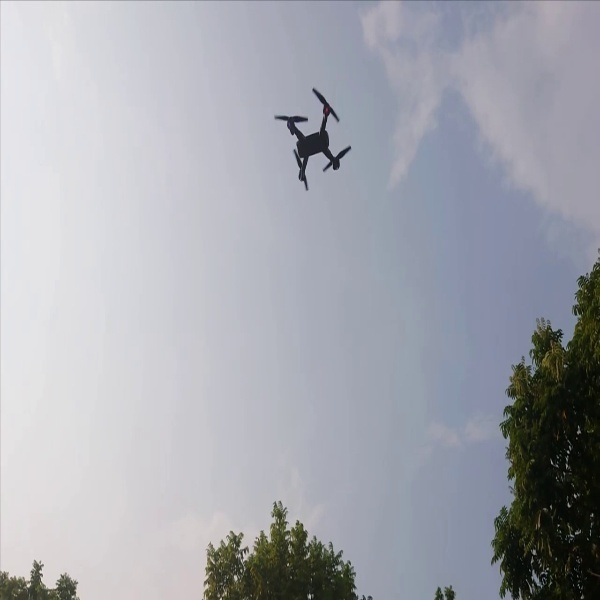drone: (265, 84, 362, 196)
